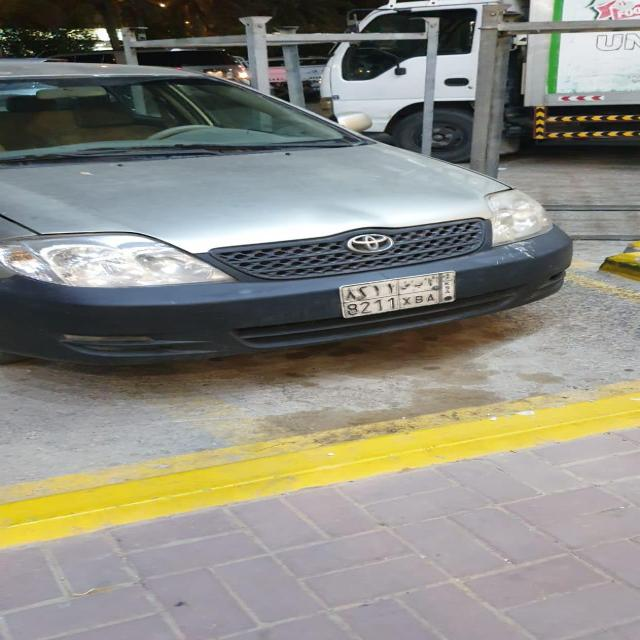license_plate: (336, 270, 456, 320)
